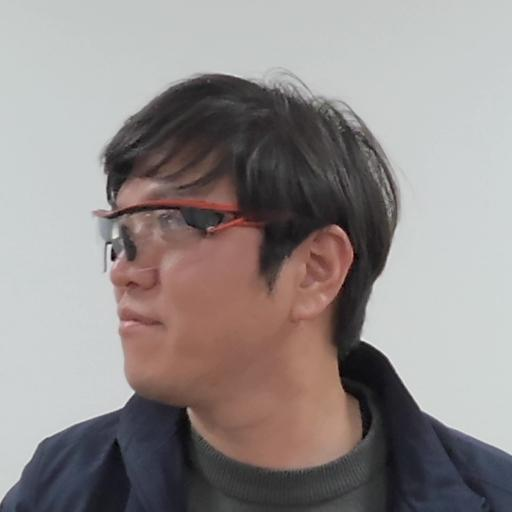glasses: (89, 65, 407, 395)
